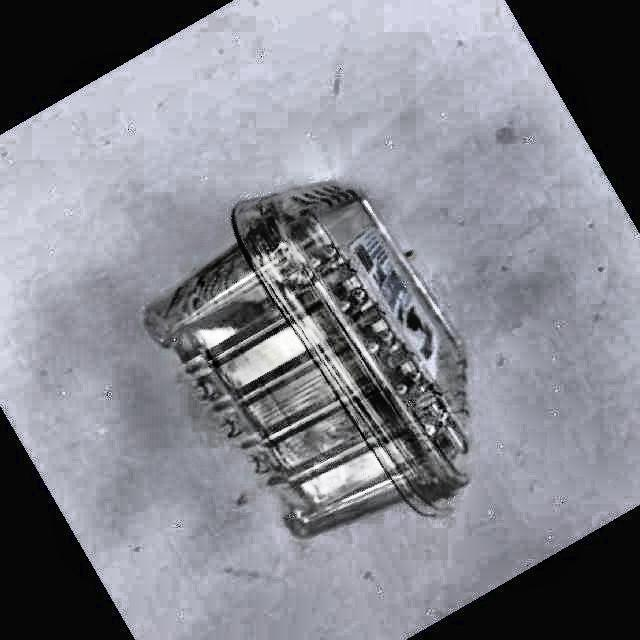plastic: (145, 182, 469, 536)
